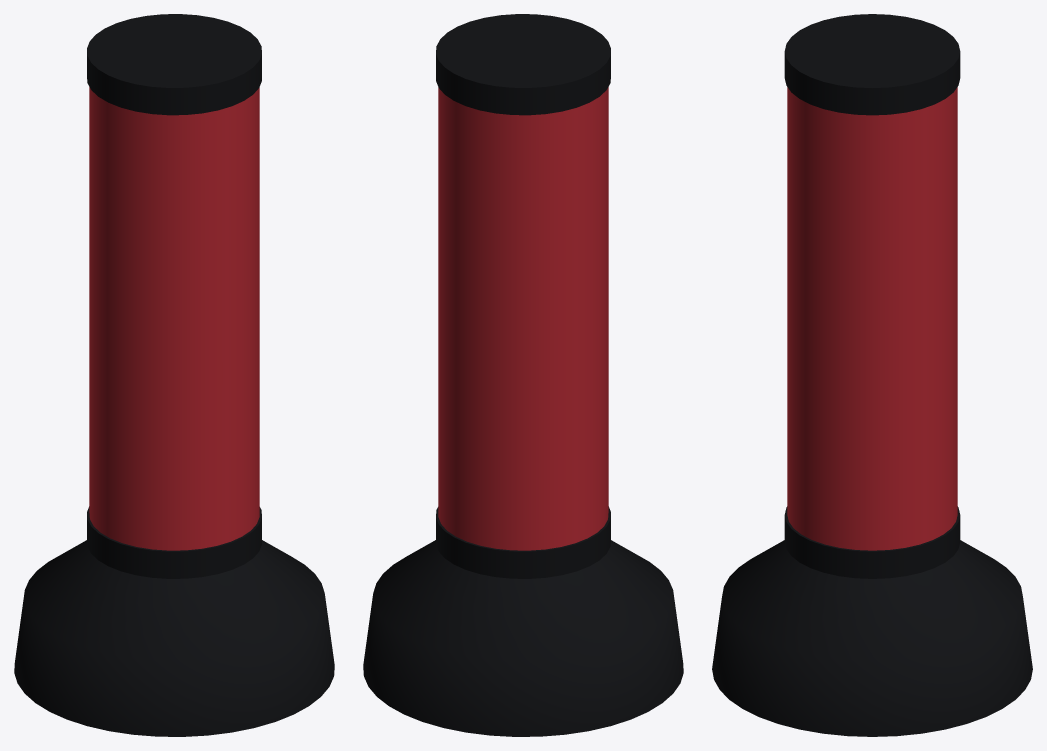
Rendered from standing_bag.glb.
The picture shows the model from 3 angles, left to right: view 1: azimuth 30°, elevation 25°; view 2: azimuth 150°, elevation 25°; view 3: azimuth 270°, elevation 25°; orthographic projection.
Visible parts, largest first — view 1: standing_bag; view 2: standing_bag; view 3: standing_bag.
Part boxes in pixels (x1,y1,x2,y2): standing_bag: [14, 14, 334, 736]; standing_bag: [363, 14, 683, 736]; standing_bag: [712, 14, 1032, 736].
Size of the model in its own units: 0.64 by 1.36 by 0.64.
